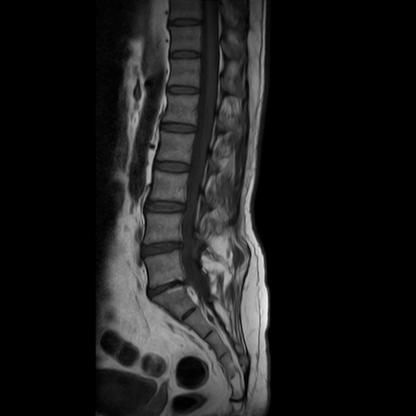Disc Bulgerotation: (140, 239, 184, 260), (144, 279, 189, 297)
